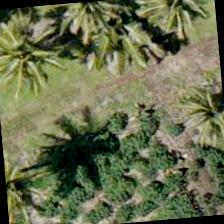Kelapa_Sawit: (0, 4, 65, 95), (163, 67, 223, 164), (137, 0, 218, 48)
